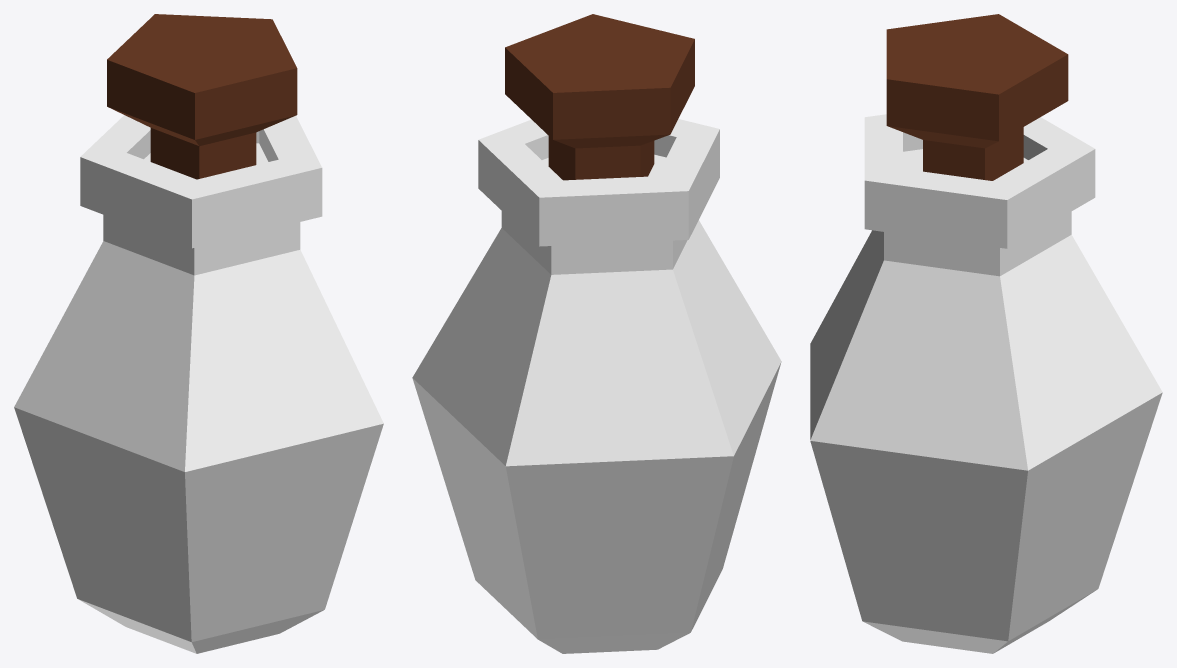
Rendered from Crypt_Potion5.glb.
3 renders of one model, left to right at view 1: azimuth 30°, elevation 25°; view 2: azimuth 150°, elevation 25°; view 3: azimuth 270°, elevation 25°, orthographic.
Visible parts, largest first — view 1: Potion5; view 2: Potion5; view 3: Potion5.
Part boxes in pixels (x1,y1,x2,y2): Potion5: (14,14,383,653); Potion5: (412,14,781,653); Potion5: (810,14,1162,653).
Bounding box in the file's own units: 0.4697 × 0.7927 × 0.4467.
